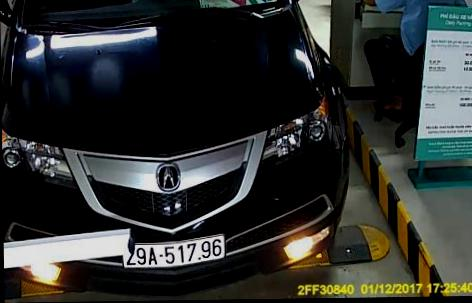License_Plate: (119, 237, 225, 268)
